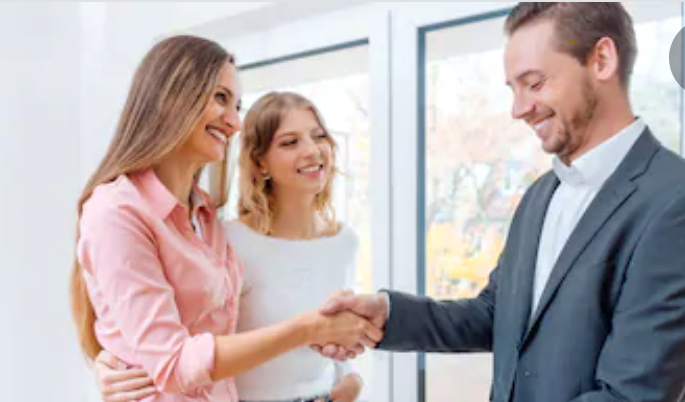Bad: (236, 1, 685, 312), (70, 35, 345, 402)
